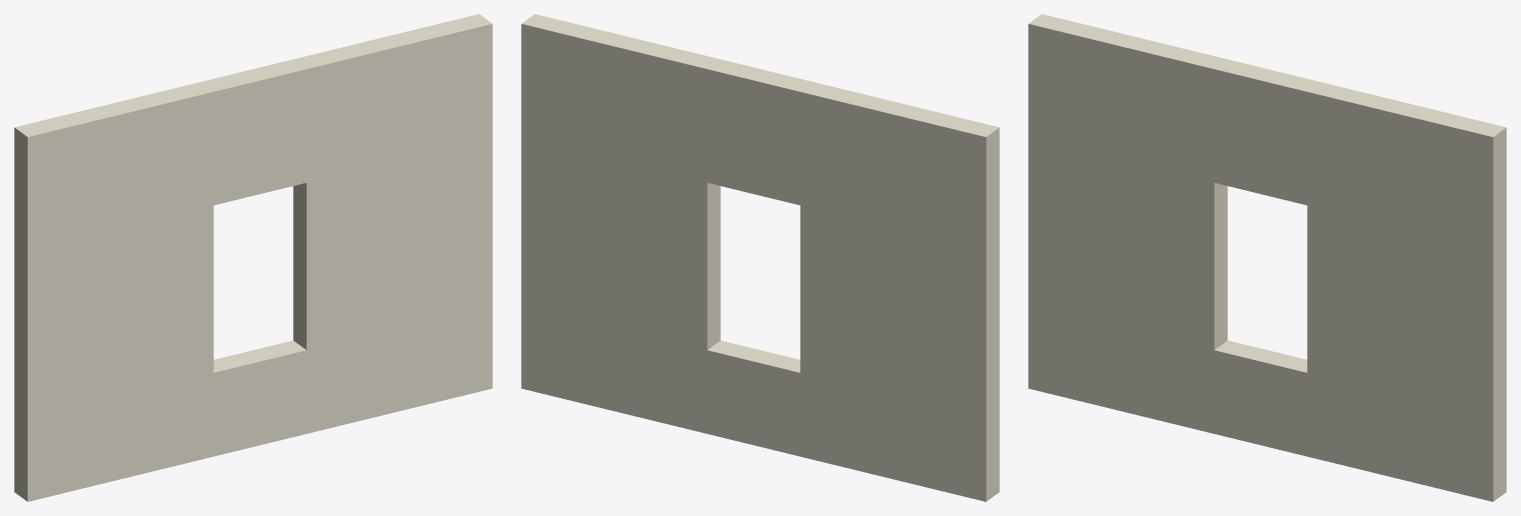
Rendered from Wall_Window_400x300.glb.
3 renders of one model, left to right at view 1: azimuth 30°, elevation 25°; view 2: azimuth 150°, elevation 25°; view 3: azimuth 330°, elevation 25°, orthographic.
Visible parts, largest first — view 1: Wall_Window_400x300; view 2: Wall_Window_400x300; view 3: Wall_Window_400x300.
Part boxes in pixels (bbox=[...]): Wall_Window_400x300: bbox=[14, 14, 492, 501]; Wall_Window_400x300: bbox=[521, 14, 999, 501]; Wall_Window_400x300: bbox=[1028, 14, 1506, 501].
Size of the model in its own units: 4 by 3 by 0.2.
